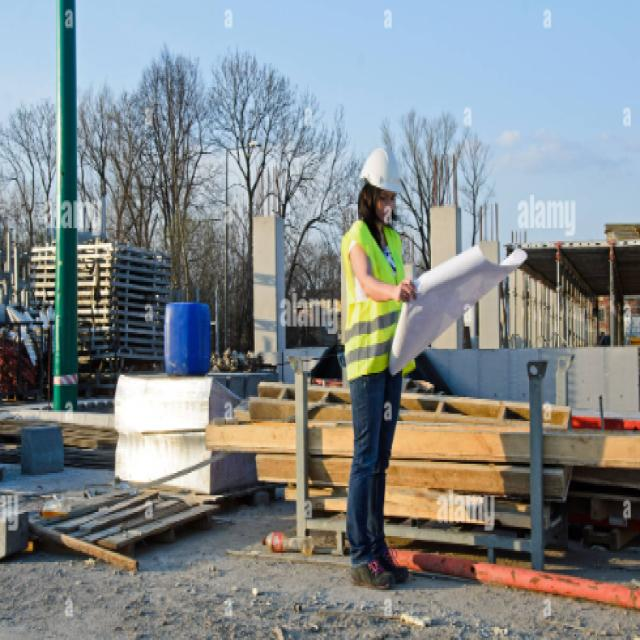boots: (346, 544, 412, 594)
helmet: (359, 148, 404, 231)
vest: (342, 219, 412, 388)
